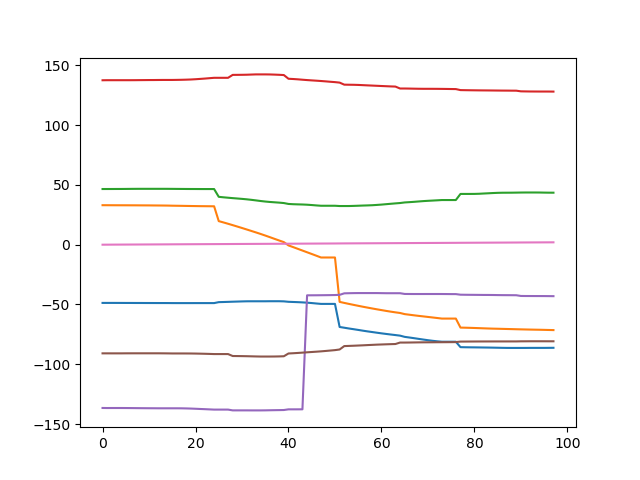Good_Bicep_Curl: (6, 4, 636, 480)
